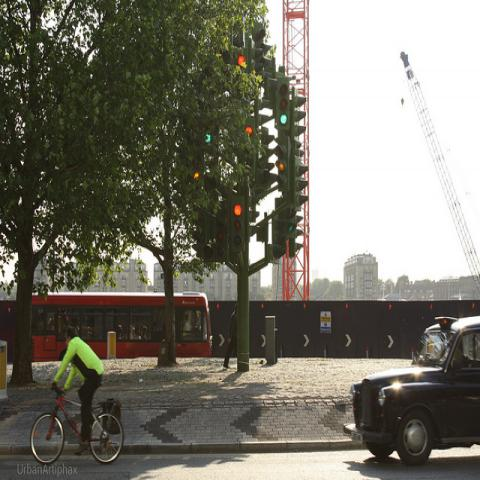bus: (34, 292, 212, 358)
car: (351, 316, 479, 464)
